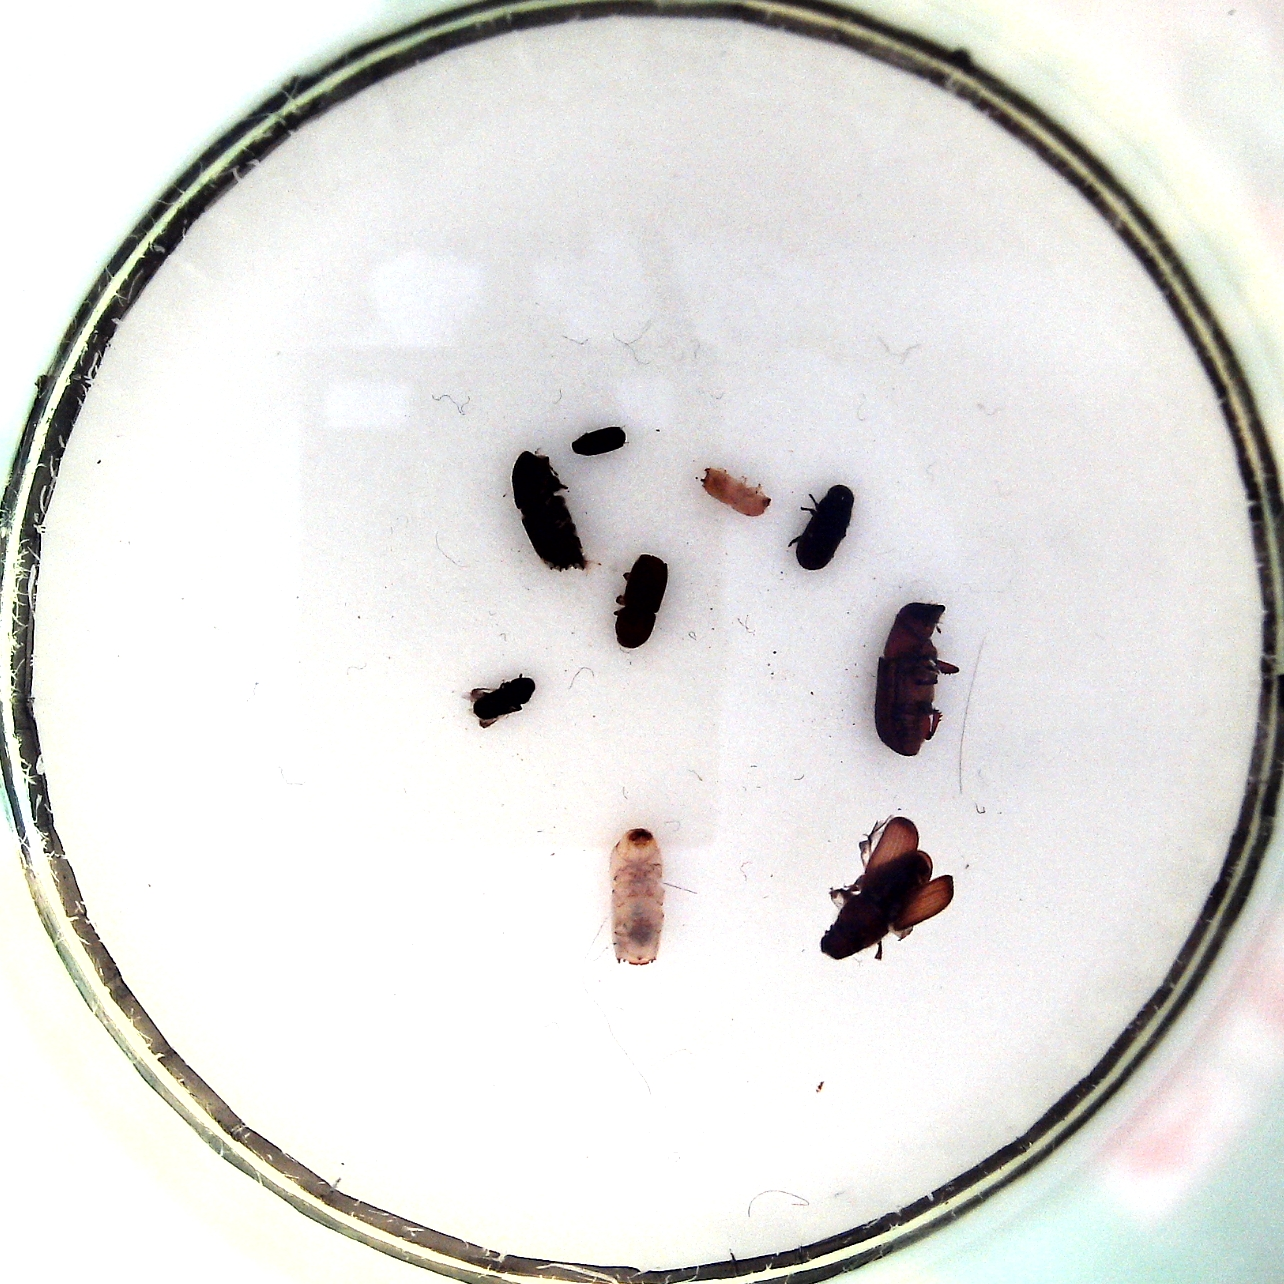Boerner: (597, 822, 674, 971)
Leconte: (815, 809, 959, 969), (864, 594, 964, 760), (504, 446, 597, 576)
Linnaeus: (611, 551, 673, 651)
acuminatus: (695, 460, 773, 520)
armandi: (789, 479, 858, 576)
coleoptera: (461, 674, 539, 728), (570, 423, 629, 459)
